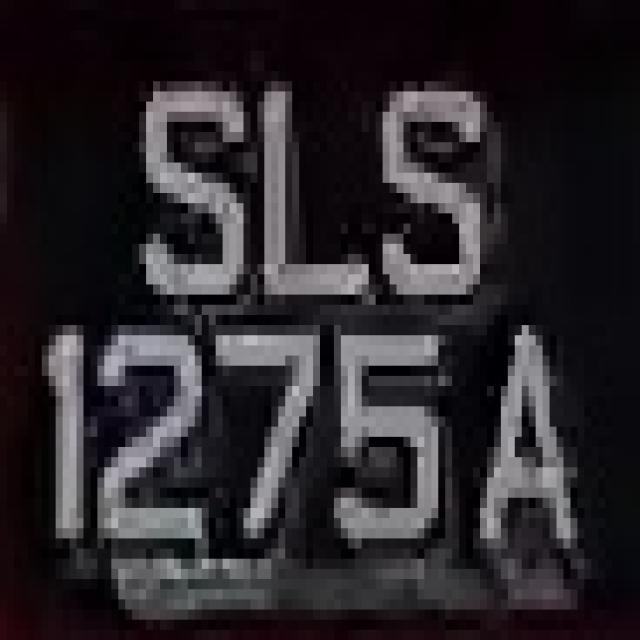1: (42, 294, 97, 558)
2: (70, 325, 222, 549)
5: (320, 305, 438, 579)
7: (195, 325, 313, 549)
A: (452, 294, 584, 610)
L: (230, 82, 382, 336)
S: (355, 71, 501, 315), (126, 51, 250, 305)
